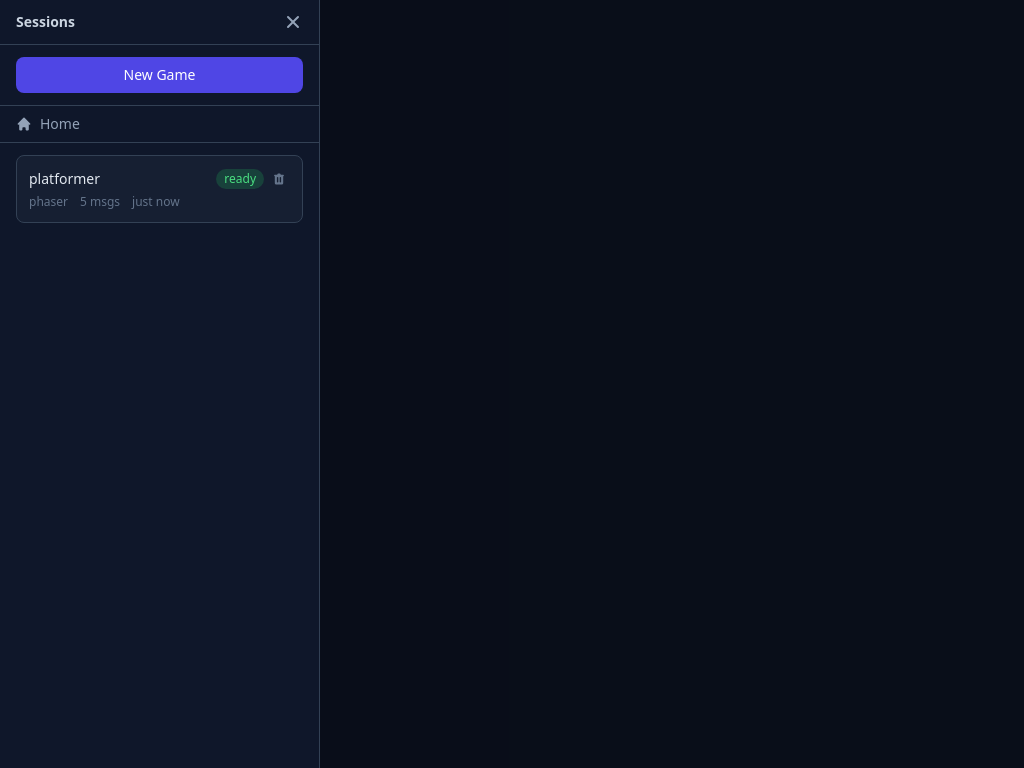
Test case: SessionTray › removes session card on successful delete
Click the button with test id "session-tray-delete" at [279, 179], box [268,168,290,190]
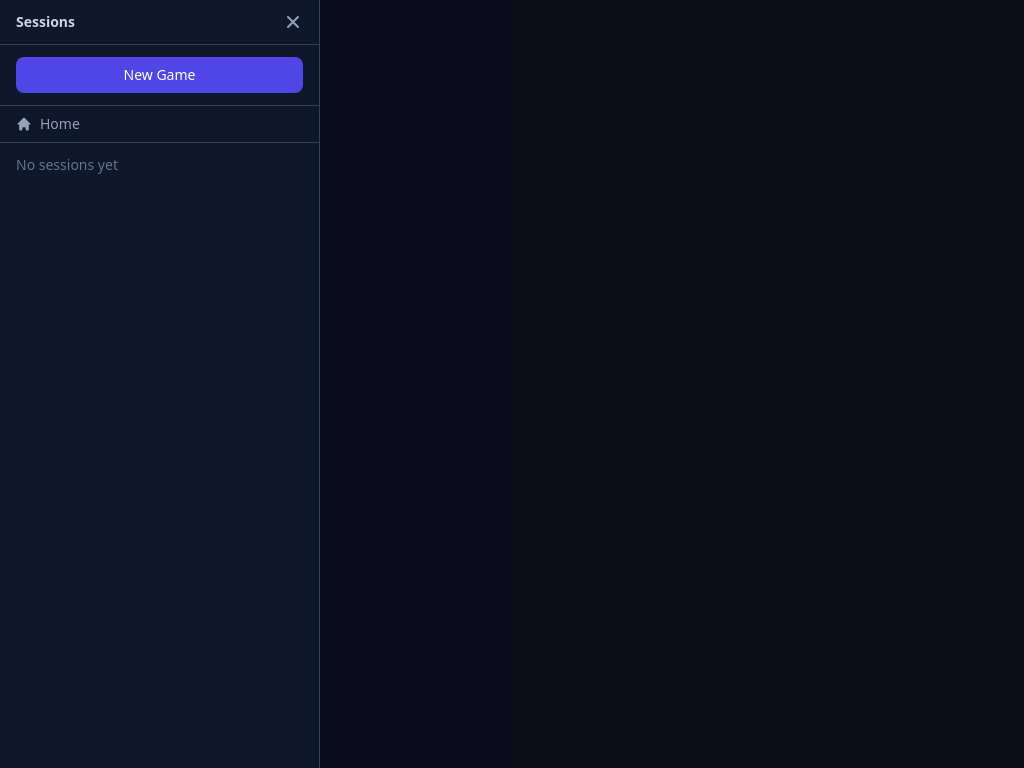
Expected: the link with test id "session-tray-card" is gone
